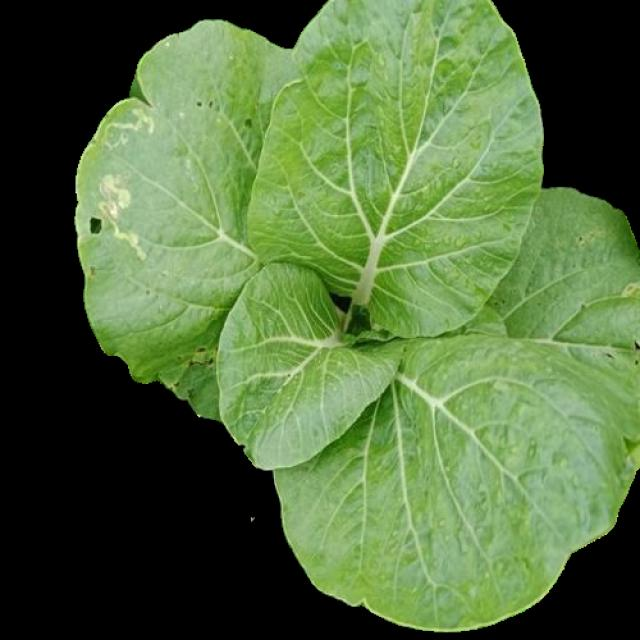mature: (78, 1, 640, 631)
unhealthy: (275, 191, 640, 627), (250, 1, 544, 333), (83, 18, 289, 421)
